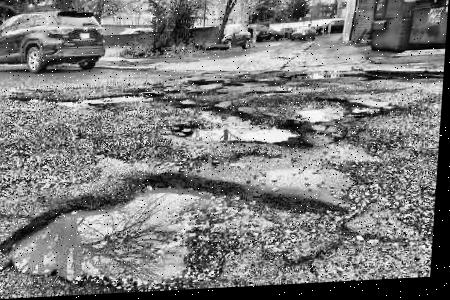pothole: (0, 164, 360, 297), (168, 102, 314, 160), (290, 97, 371, 128), (71, 93, 144, 106), (196, 81, 227, 93)
